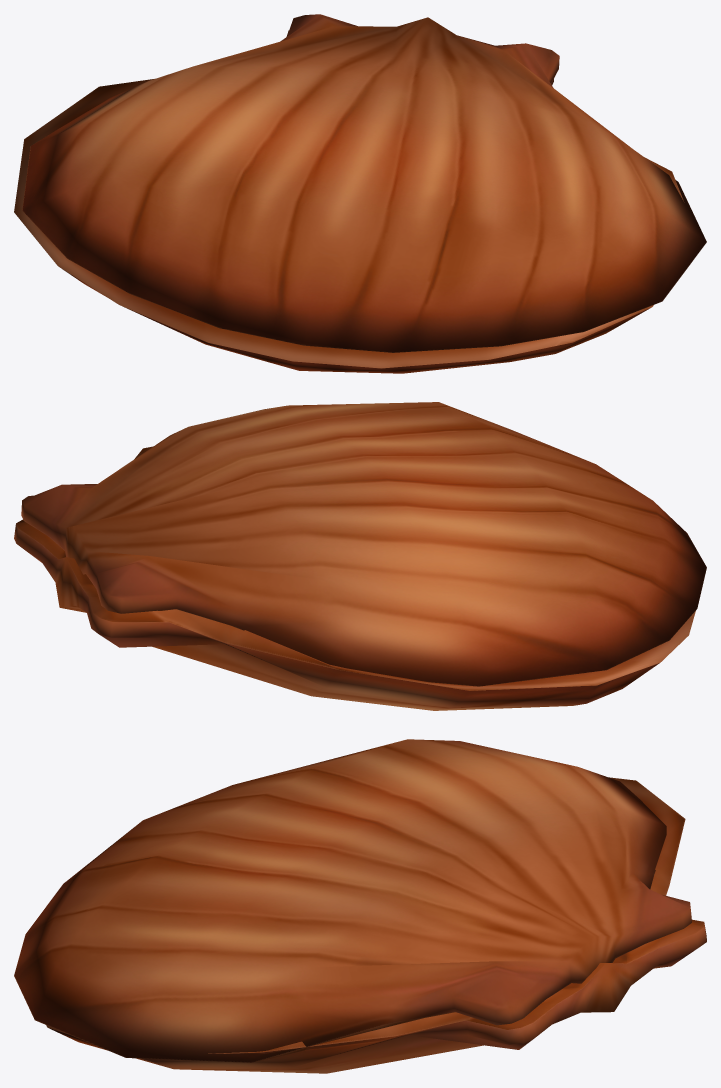
Rendered from shell.fbx.
The picture shows the model from 3 angles, top to bottom: view 1: azimuth 30°, elevation 25°; view 2: azimuth 150°, elevation 25°; view 3: azimuth 270°, elevation 25°; orthographic projection. The views are drawn at different scales.
Parts seen in each view (by area): view 1: Shell.001, Shell; view 2: Shell.001, Shell; view 3: Shell.001, Shell.
Part boxes in pixels (box(x1,y1,x2,y2)): Shell.001: box(22, 14, 706, 352); Shell: box(14, 30, 684, 373); Shell.001: box(21, 402, 706, 686); Shell: box(14, 446, 695, 710); Shell.001: box(14, 739, 691, 1062); Shell: box(46, 777, 706, 1073).
Size of the model in its own units: 153 by 46.07 by 155.
